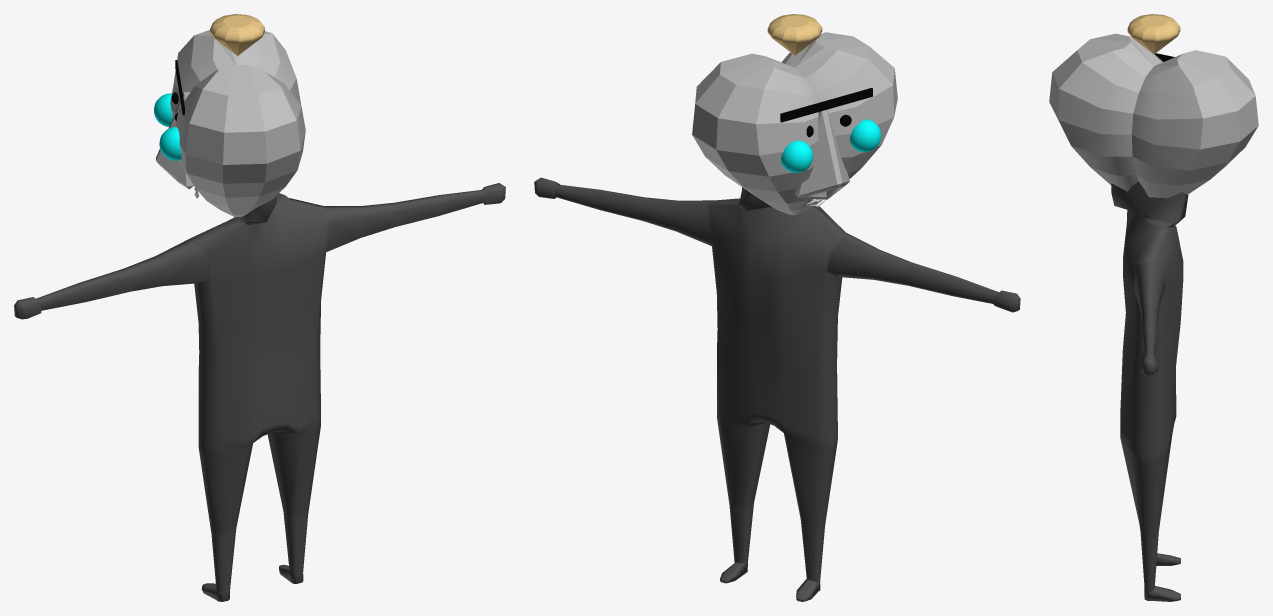
Rendered from partner.fbx.
3 renders of one model, left to right at view 1: azimuth 30°, elevation 25°; view 2: azimuth 150°, elevation 25°; view 3: azimuth 270°, elevation 25°, orthographic. The views are drawn at different scales.
Visible parts, largest first — view 1: Cube2, pSphere21, pCylinder6, pPyramid5; view 2: Cube2, pSphere21, pPyramid5, pCylinder6, pCube8, pSphere20, pSphere24; view 3: pSphere21, Cube2, pCylinder6.
Part boxes in pixels (x1,y1,x2,y2): Cube2: (14,183,505,601); pSphere21: (170,30,305,217); pCylinder6: (210,14,264,55); pPyramid5: (155,92,193,189); Cube2: (534,177,1020,601); pSphere21: (692,32,897,215); pPyramid5: (795,110,849,199); pCylinder6: (767,14,822,55); pCube8: (780,88,872,122); pSphere20: (781,140,813,172); pSphere24: (850,119,881,152); pSphere21: (1049,33,1258,198); Cube2: (1111,145,1188,601); pCylinder6: (1127,14,1180,54).
Size of the model in its own units: 6.87 by 7.67 by 2.65.
